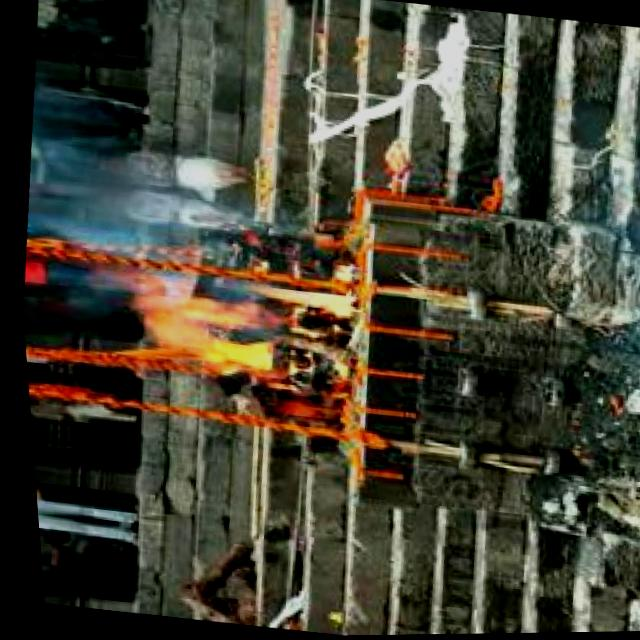Fire: (104, 258, 362, 389)
